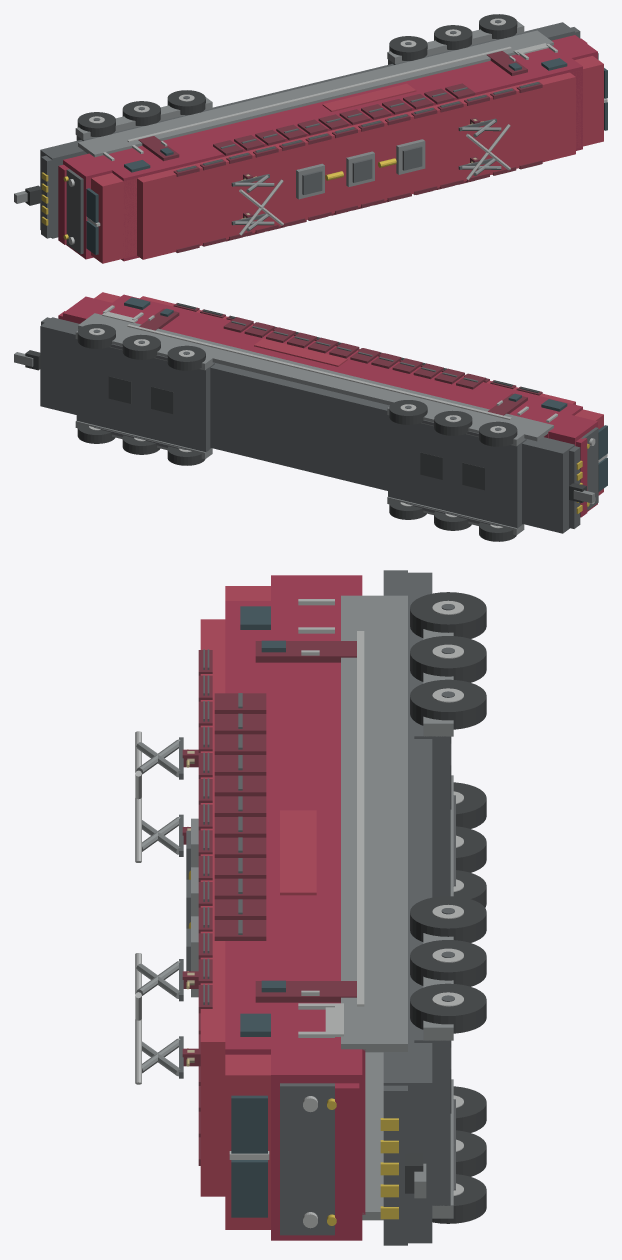
Rendered from HXD3D-0611_HO_1-87_reference_update.glb.
The picture shows the model from 3 angles, top to bottom: view 1: azimuth 30°, elevation 25°; view 2: azimuth 150°, elevation 25°; view 3: azimuth 270°, elevation 25°; orthographic projection. The views are drawn at different scales.
Visible parts, largest first — view 1: roof_red_crown, main_red_body, lower_side_skirt_right, cab_upper_nose_-1, cab_upper_nose_1, chassis, cab_lower_nose_-1, side_light_stripe_1, front_fascia_-1, cab_lower_nose_1, side_logo_panel_1, buffer_beam_-1 (+19 smaller); view 2: chassis, bogie_main_frame_59, bogie_main_frame_-59, main_red_body, lower_side_skirt_right, cab_lower_nose_-1, side_light_stripe_1, cab_lower_nose_1, side_logo_panel_1, front_fascia_-1, wheel_-76_1, wheel_42_1 (+23 smaller); view 3: main_red_body, lower_side_skirt_right, chassis, roof_red_crown, cab_lower_nose_1, front_fascia_1, cab_lower_nose_-1, front_red_band_1, cab_upper_nose_1, bogie_main_frame_59, bogie_main_frame_-59, side_logo_panel_1 (+32 smaller).
Part boxes in pixels (x1,y1,x2,y2): roof_red_crown: (137,72,575,259); main_red_body: (96,46,582,261); lower_side_skirt_right: (78,30,553,157); cab_upper_nose_-1: (91,173,136,263); cab_upper_nose_1: (573,56,603,148); chassis: (40,22,574,238); cab_lower_nose_-1: (63,146,159,259); side_light_stripe_1: (127,46,511,142); front_fascia_-1: (66,169,83,254); cab_lower_nose_1: (511,35,597,68); side_logo_panel_1: (322,83,416,111); buffer_beam_-1: (41,155,54,238); chassis: (40,317,574,533); bogie_main_frame_59: (76,339,214,451); bogie_main_frame_-59: (388,415,526,528); main_red_body: (97,294,582,438); lower_side_skirt_right: (78,313,553,441); cab_lower_nose_-1: (510,403,597,511); side_light_stripe_1: (127,324,511,419); cab_lower_nose_1: (63,296,155,324); side_logo_panel_1: (254,338,347,366); front_fascia_-1: (581,427,598,510); wheel_-76_1: (479,421,517,446); wheel_42_1: (167,345,205,370); main_red_body: (225,601,365,1214); lower_side_skirt_right: (341,595,407,1052); chassis: (383,572,432,1243); roof_red_crown: (200,619,225,1196); cab_lower_nose_1: (271,1003,362,1240); front_fascia_1: (280,1083,334,1235); cab_lower_nose_-1: (271,575,362,640); front_red_band_1: (335,1083,359,1237); cab_upper_nose_1: (225,1054,270,1229); bogie_main_frame_59: (414,937,450,1205); bogie_main_frame_-59: (414,633,450,897); side_logo_panel_1: (280,810,316,895).
Size of the model in its own units: 219 by 38.2 by 57.65.
